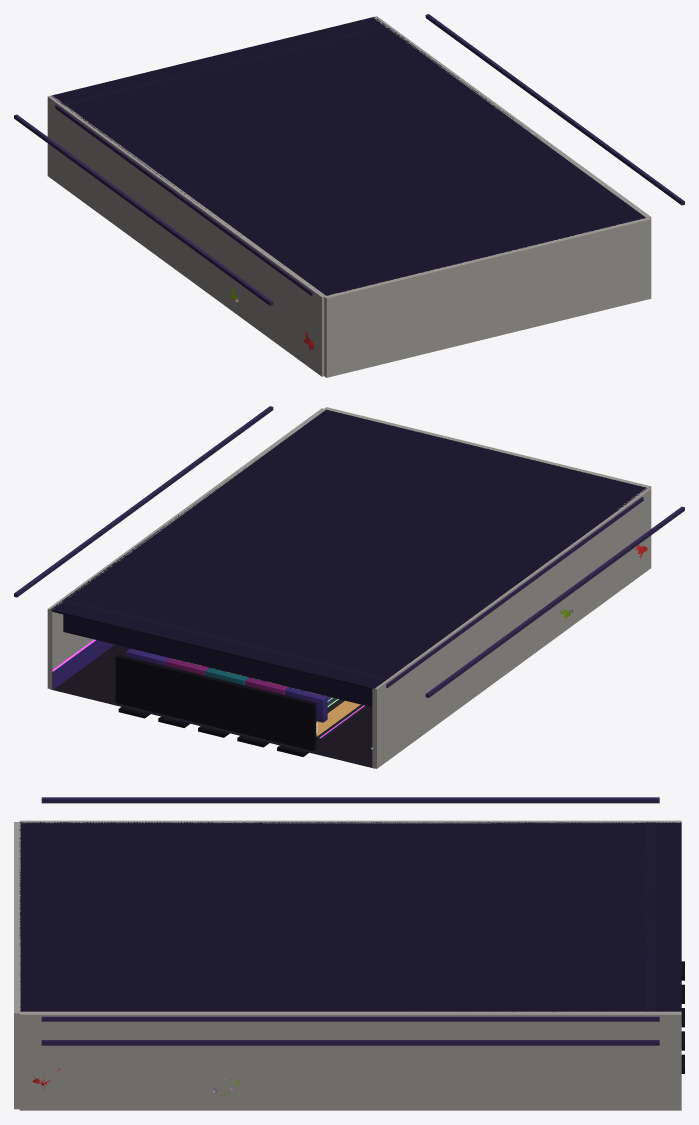
File: bowling.glb
3 renders of one model, top to bottom at view 1: azimuth 30°, elevation 25°; view 2: azimuth 150°, elevation 25°; view 3: azimuth 270°, elevation 25°, orthographic. The views are drawn at different scales.
Parts seen in each view (by area): view 1: m25, beton, m26, m17; view 2: m25, beton, m9, m17, m26, m23, m33, m10, m7, m15, lane; view 3: m25, beton, m26, m17.
Boxes of the visible parts, x1,y1,x2,y2 form: m25: (50,17,645,295); beton: (47,16,651,377); m26: (14,14,684,305); m17: (61,25,386,105); m25: (50,409,647,689); beton: (47,407,651,768); m9: (115,654,316,750); m17: (62,599,388,706); m26: (14,406,684,697); m23: (50,644,374,768); m33: (52,640,372,767); m10: (126,648,327,722); m7: (118,707,308,756); m15: (165,658,287,694); lane: (187,662,360,735); m25: (19,822,681,1012); beton: (14,820,681,1110); m26: (41,797,659,1045); m17: (646,822,655,1011).
Size of the model in its own units: 26.2 by 5.1 by 30.4.
58 materials, 3 textured.
